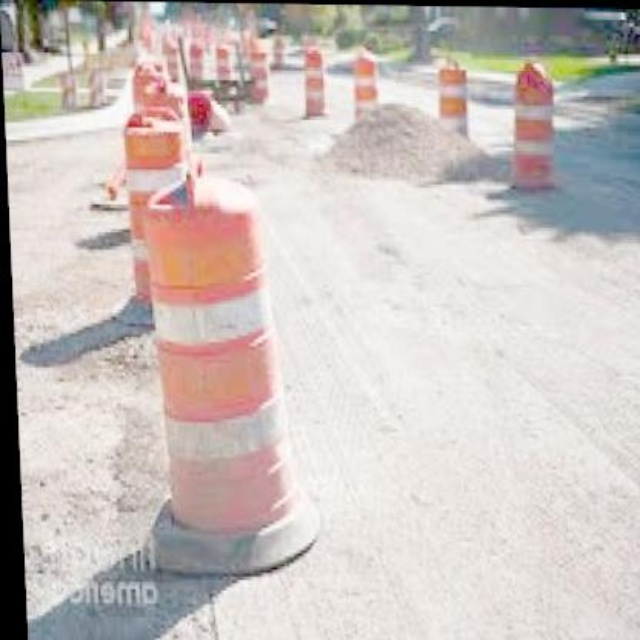obstacle: (126, 159, 295, 546), (510, 58, 558, 185)
